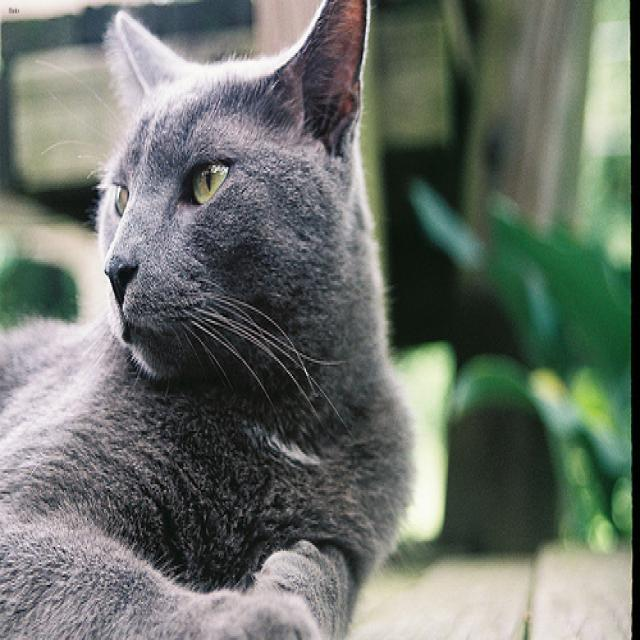Russian_Blue: (91, 0, 375, 399)
